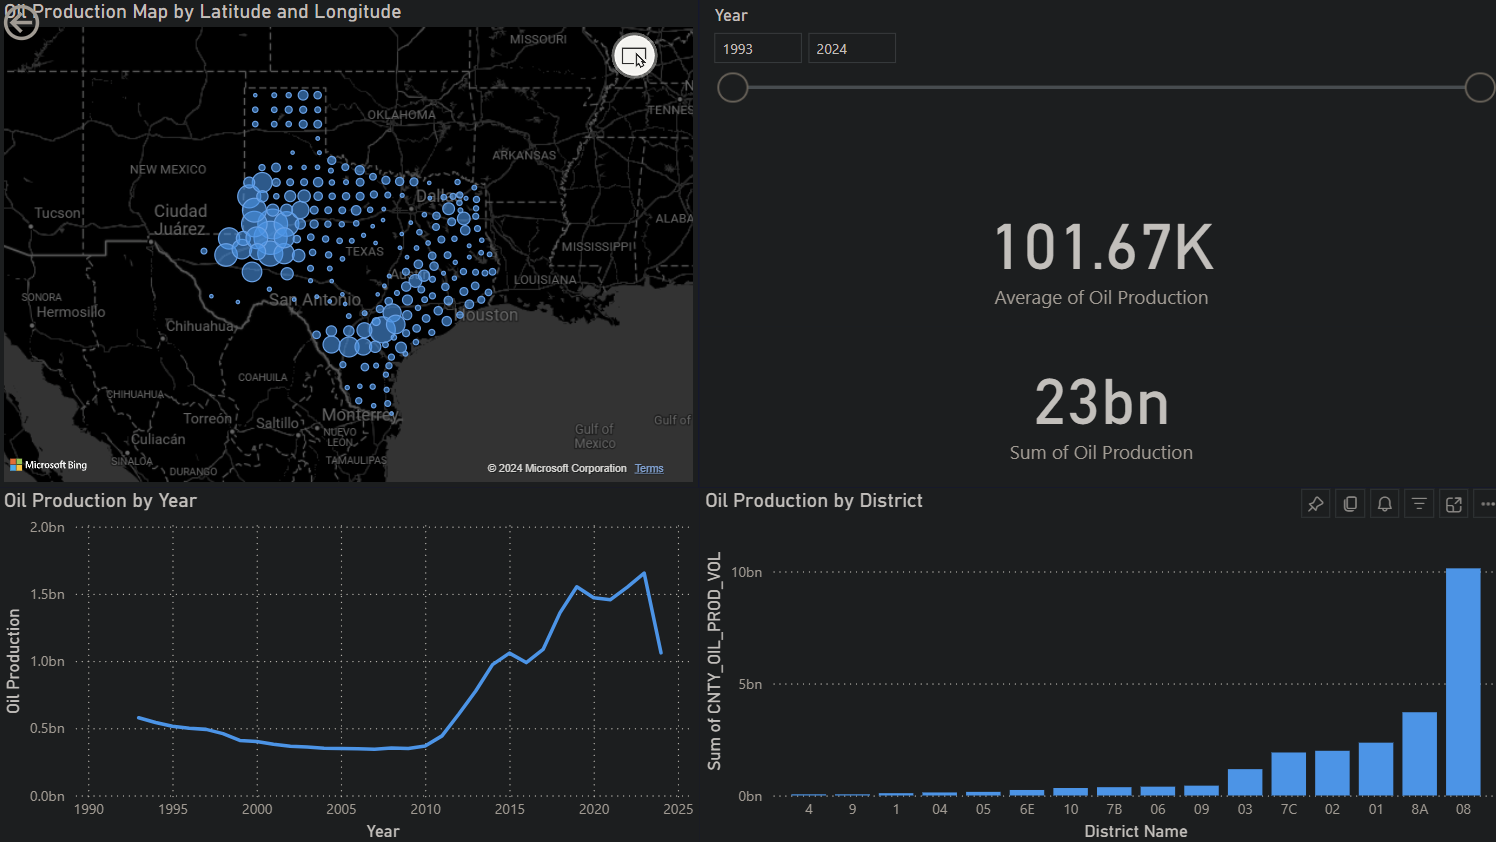

What the dashboard file says about the page in this screenshot:
{"tool":"powerbi","page":{"name":"Page 1","canvas":[1280,720],"ordinal":0},"visuals":[{"type":"map","fields":{"Y":["combined.Latitude"],"X":["combined.Longitude"],"Size":["Sum(combined.CNTY_OIL_PROD_VOL)"]},"box":[0,0,595.5,415.1],"z":0},{"type":"slicer","fields":{"Values":["combined.CYCLE_YEAR"]},"box":[595.5,0,684.6,150.2],"z":1000},{"type":"card","fields":{"Values":["Avg(combined.CNTY_OIL_PROD_VOL)"]},"box":[934.1,150.1,346.1,128.9],"z":2000},{"type":"card","fields":{"Values":["Sum(combined.CNTY_OIL_PROD_VOL)"]},"box":[933.7,278,346.6,137.1],"z":3000},{"type":"lineChart","fields":{"Y":["Sum(combined.CNTY_OIL_PROD_VOL)"],"Category":["combined.CYCLE_YEAR"]},"box":[0,415.1,595.5,304.9],"z":4000},{"type":"columnChart","fields":{"Y":["Sum(combined.CNTY_OIL_PROD_VOL)"],"Category":["combined.DISTRICT_NAME"]},"box":[595.9,415,684.2,305.5],"z":4001}]}

Visuals, with their boxes in screenshot pixels (x1, y1, x2, y2), scaled from the page's 1280x720 canvas onto the 1496x842 screenshot:
map - combined.Latitude x combined.Longitude: box=[0, 0, 696, 485]
slicer - combined.CYCLE_YEAR: box=[696, 0, 1495, 176]
card - Avg(combined.CNTY_OIL_PROD_VOL): box=[1092, 176, 1495, 326]
card - Sum(combined.CNTY_OIL_PROD_VOL): box=[1091, 325, 1495, 485]
lineChart - Sum(combined.CNTY_OIL_PROD_VOL) x combined.CYCLE_YEAR: box=[0, 485, 696, 841]
columnChart - Sum(combined.CNTY_OIL_PROD_VOL) x combined.DISTRICT_NAME: box=[696, 485, 1495, 841]
